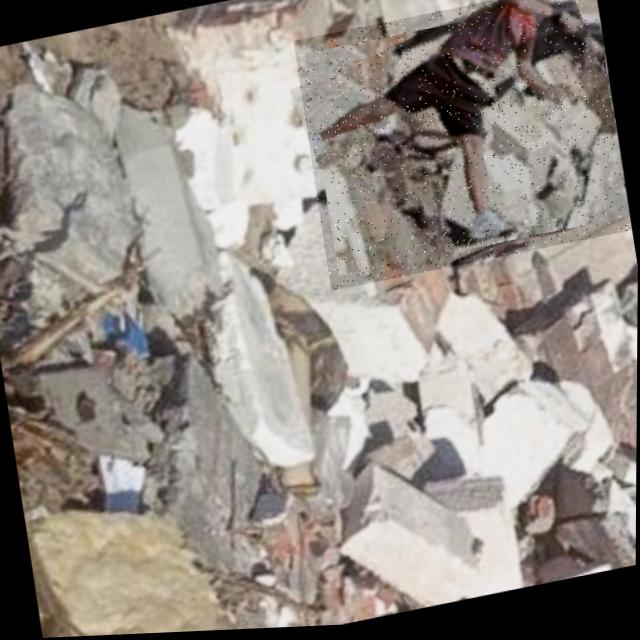Person in Rubble: (291, 0, 634, 296)
